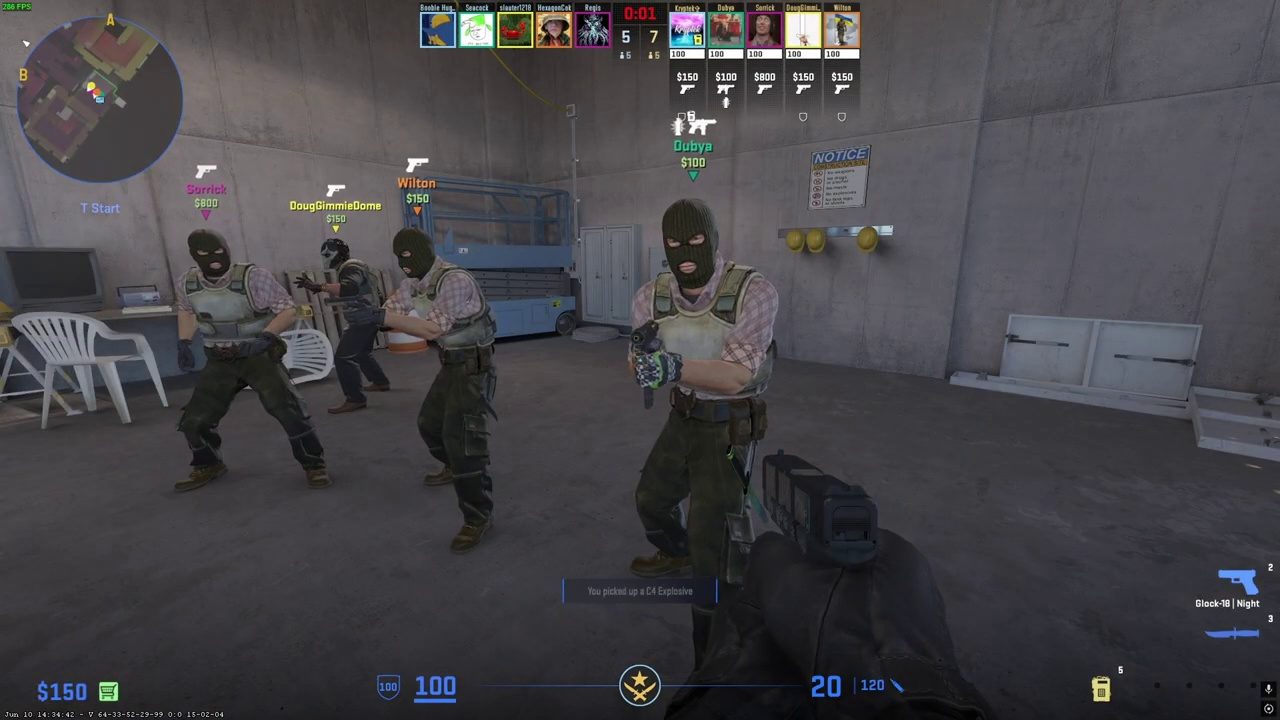Terrorist: (631, 198, 778, 673), (174, 229, 316, 493), (390, 227, 497, 551), (318, 238, 389, 414)
